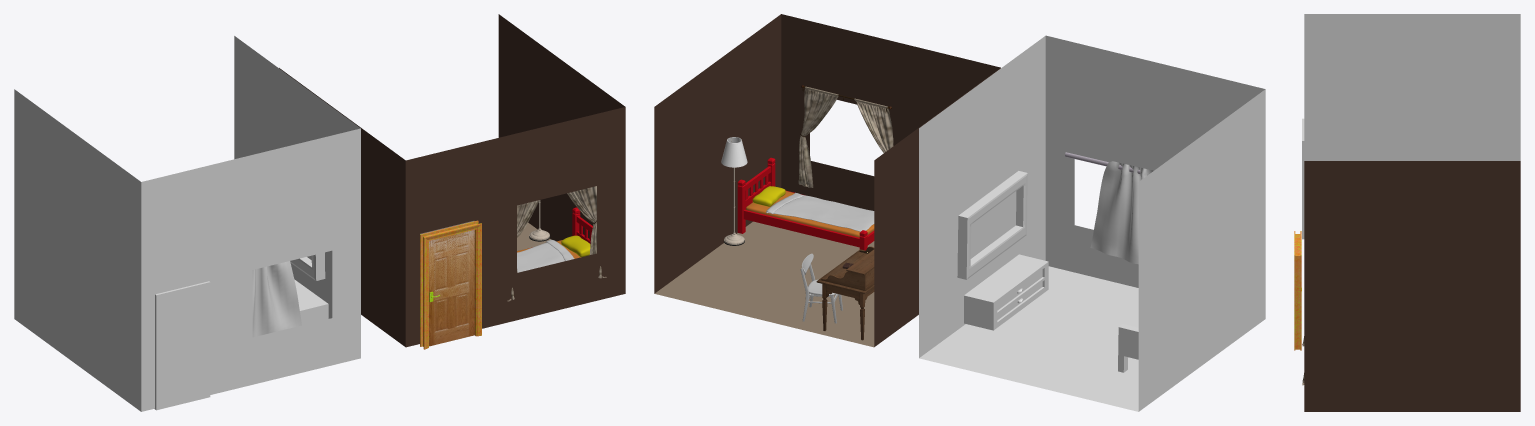
File: Cabinet12.fbx
The picture shows the model from 3 angles, left to right: view 1: azimuth 30°, elevation 25°; view 2: azimuth 150°, elevation 25°; view 3: azimuth 270°, elevation 25°; orthographic projection. The views are drawn at different scales.
Parts seen in each view (by area): view 1: Cube.002, Cube.010, Cube.001, Material2.002, Plane, Material2, Bed, Material2.003, Cube.005, polySurface3332, Material2.001, Cube.004; view 2: Cube.002, Cube.010, Bed, Cube.004, Cube.005, Plane, Table_17, polySurface3332, polySurface3333, polySurface4, Chair_11, Cube.003; view 3: Cube.010, Cube.002, Material2, Cube.001, Material2.001.
Boxes of the visible parts, box(x1,y1,x2,y2) form: Cube.002: box(14, 36, 360, 411); Cube.010: box(279, 14, 625, 347); Cube.001: box(154, 281, 210, 410); Material2.002: box(429, 230, 474, 346); Plane: box(252, 261, 301, 337); Material2: box(420, 220, 481, 349); Bed: box(517, 207, 592, 272); Material2.003: box(429, 233, 474, 341); Cube.005: box(294, 279, 328, 325); polySurface3332: box(567, 186, 606, 278); Material2.001: box(420, 222, 481, 348); Cube.004: box(290, 252, 325, 280); Cube.002: box(919, 35, 1265, 411); Cube.010: box(654, 14, 1000, 347); Bed: box(737, 157, 874, 250); Cube.004: box(957, 171, 1027, 279); Cube.005: box(964, 254, 1048, 330); Plane: box(1090, 161, 1153, 264); Table_17: box(816, 246, 874, 340); polySurface3332: box(798, 86, 838, 187); polySurface3333: box(854, 98, 893, 152); polySurface4: box(721, 137, 747, 245); Chair_11: box(800, 253, 842, 323); Cube.003: box(1118, 324, 1138, 372); Cube.010: box(1304, 161, 1520, 411); Cube.002: box(1304, 14, 1520, 160); Material2: box(1294, 231, 1301, 350); Cube.001: box(1302, 118, 1304, 239); Material2.001: box(1294, 231, 1301, 349).
Bounding box in the file's own units: 29313 × 13367 × 13912.
